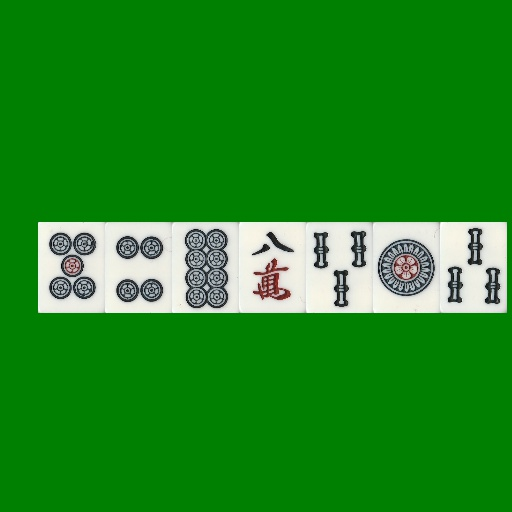1p: (373, 222, 440, 313)
3s: (306, 222, 373, 313), (440, 222, 507, 313)
4p: (105, 222, 172, 313)
5p: (38, 222, 105, 313)
8m: (239, 222, 306, 313)
8p: (172, 222, 239, 313)
